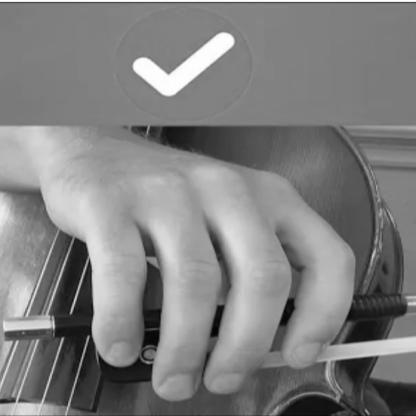good: (49, 149, 360, 399)
